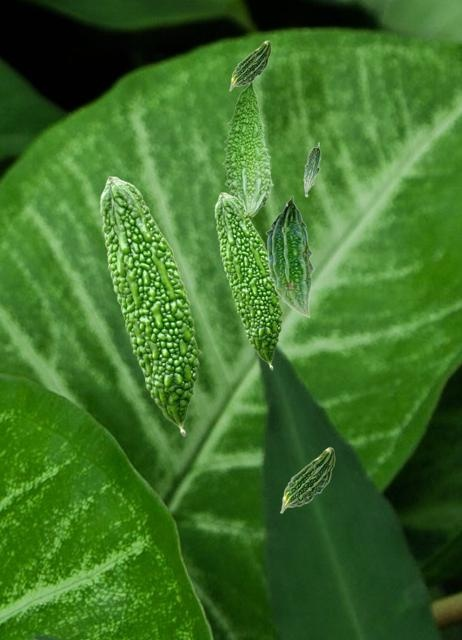ampalaya: (99, 175, 202, 437), (214, 191, 284, 370), (221, 82, 274, 219), (265, 195, 314, 318), (279, 447, 335, 513), (228, 40, 271, 91), (303, 142, 321, 197)
